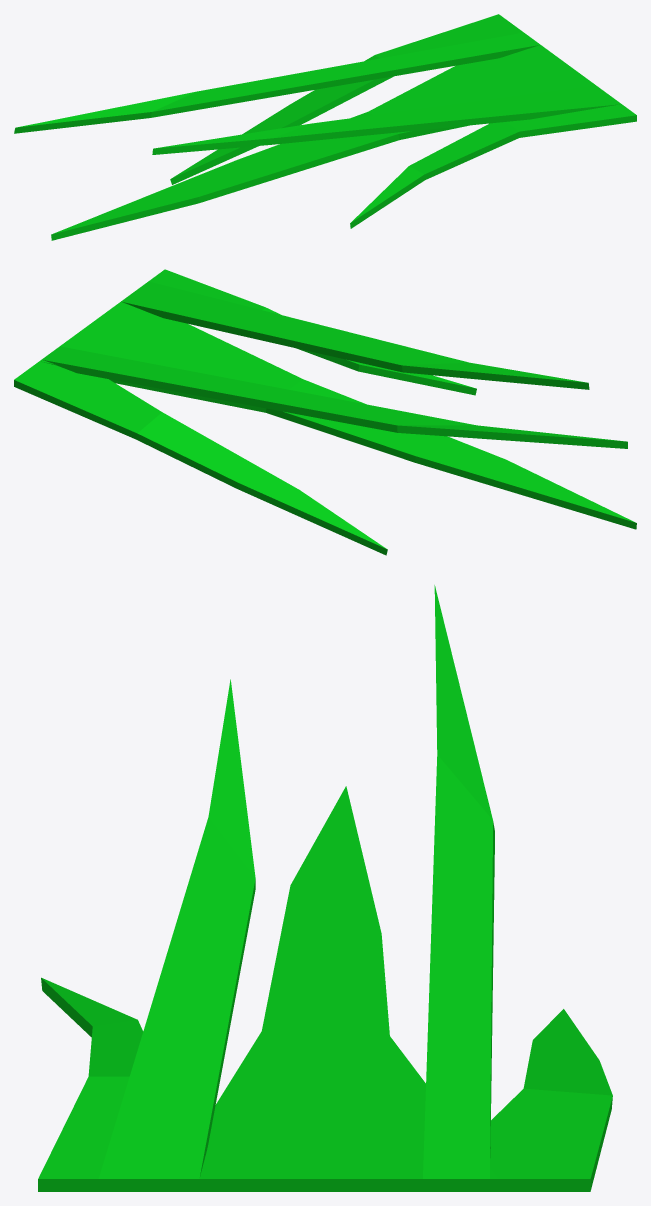
File: grassobj1.fbx
The picture shows the model from 3 angles, top to bottom: view 1: azimuth 30°, elevation 25°; view 2: azimuth 150°, elevation 25°; view 3: azimuth 270°, elevation 25°; orthographic projection. The views are drawn at different scales.
Visible parts, largest first — view 1: grass0; view 2: grass0; view 3: grass0.
Part boxes in pixels (left/top/right/bottom): grass0: left=14, top=14, right=636, bottom=240; grass0: left=14, top=269, right=636, bottom=555; grass0: left=38, top=585, right=612, bottom=1191.
Size of the model in its own units: 0.5891 by 0.1366 by 0.2802.
